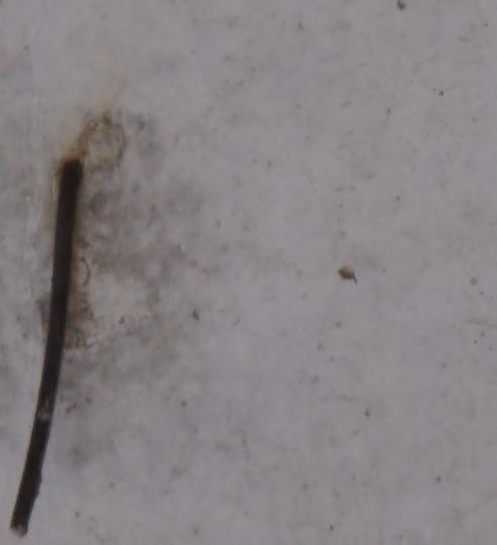Exposed reinforcement: (10, 157, 84, 537)
